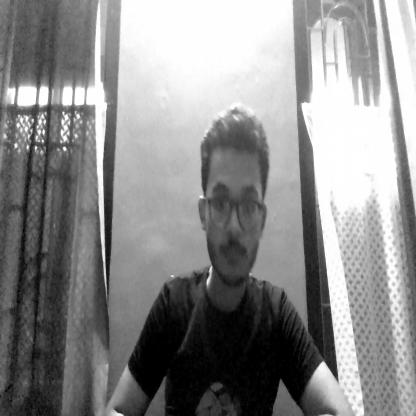Normal: (192, 108, 272, 290)
